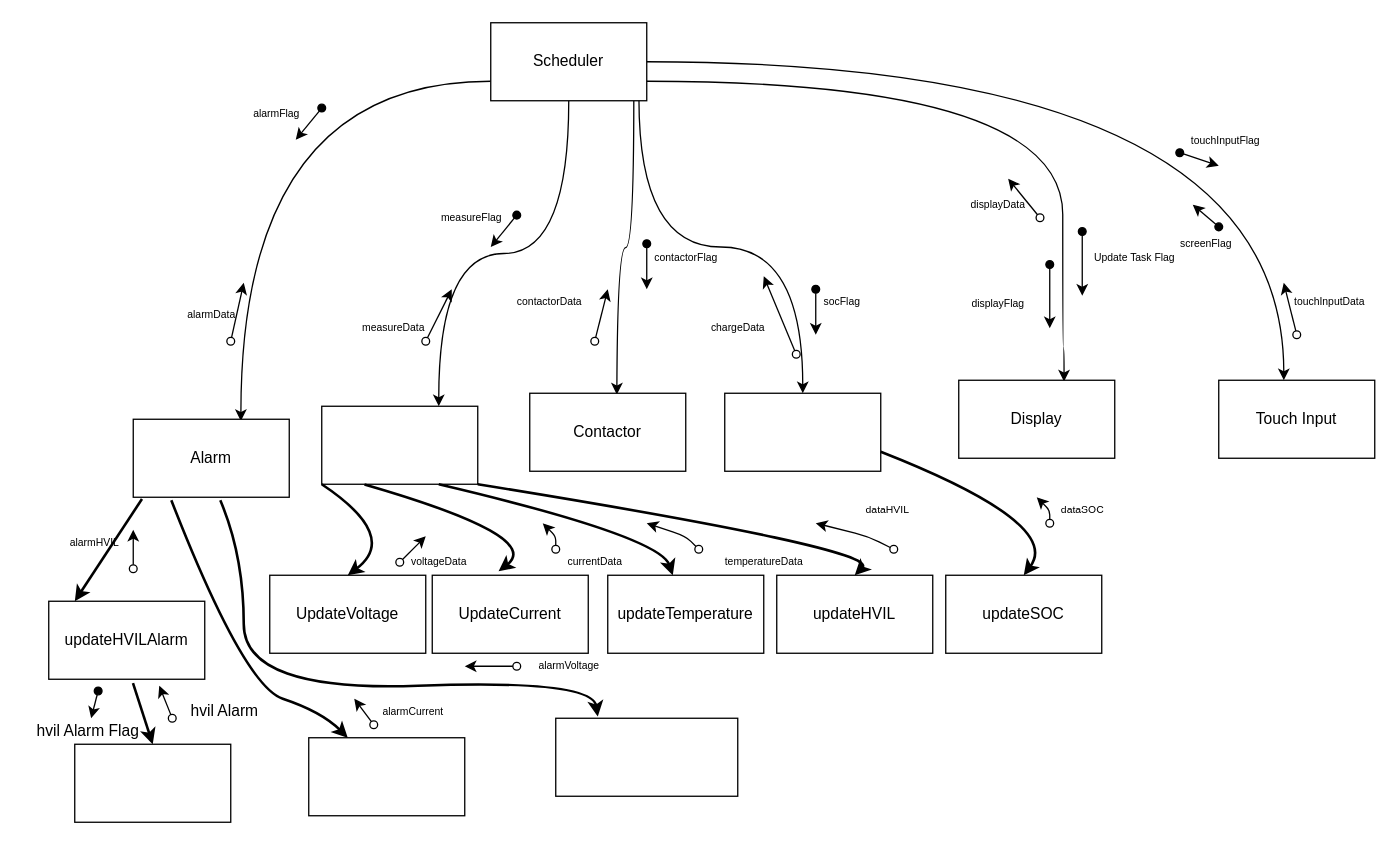
This 1398x845 diagram has some shape labels left out. The centre of each missing label's shape, as x and y in pixels:
"hvil Interrupt" goes at [152,782].
"Measure" goes at [399,444].
"State of Charge" goes at [802,431].
"updateOvercurrent" goes at [386,776].
"updateVoltageOutRange" goes at [646,756].
